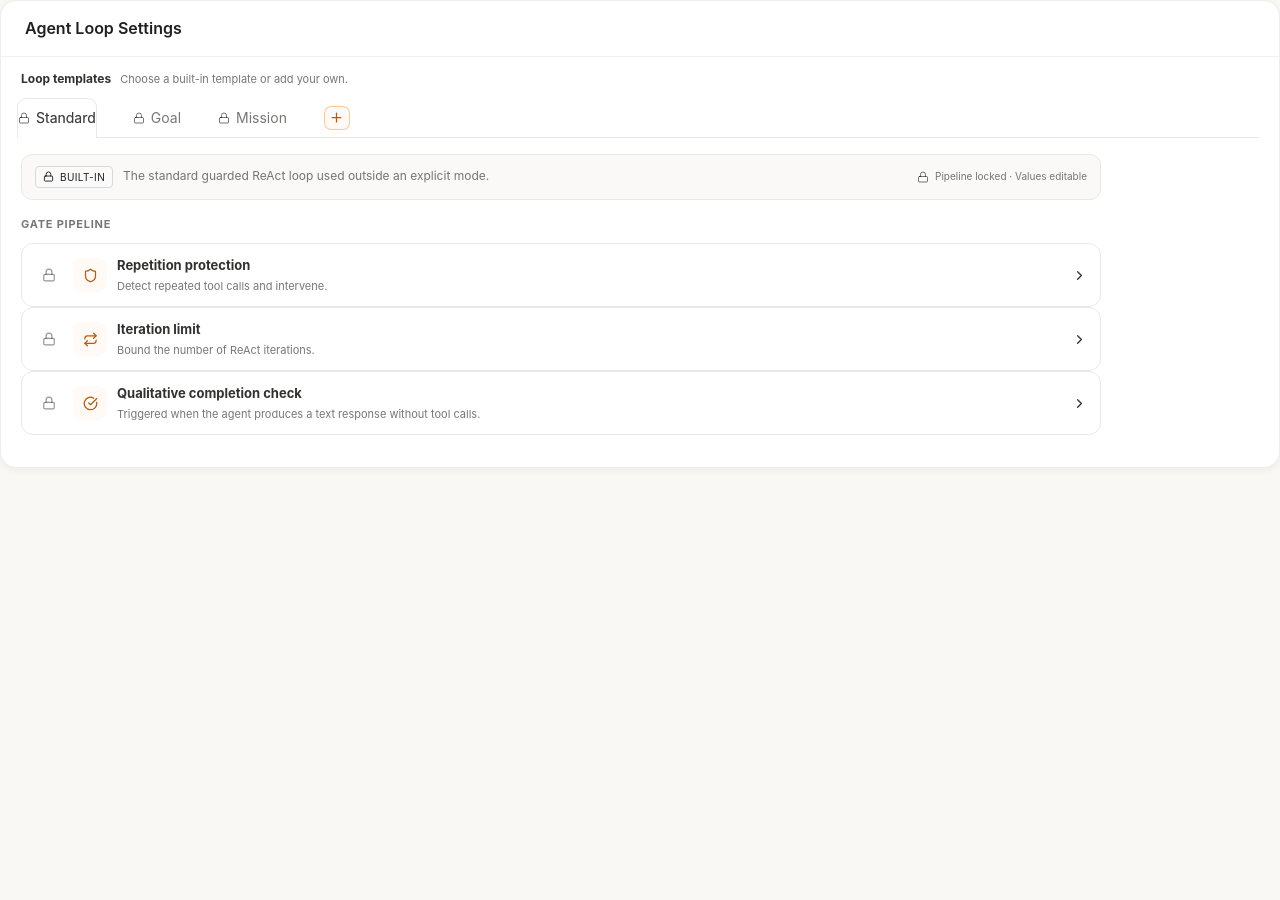
it: AgentLoopCard custom mode rendering › renders Mission defaults as three separate gates
Click the tab "Mission".
click(252, 118)  # box [218, 107, 287, 130]
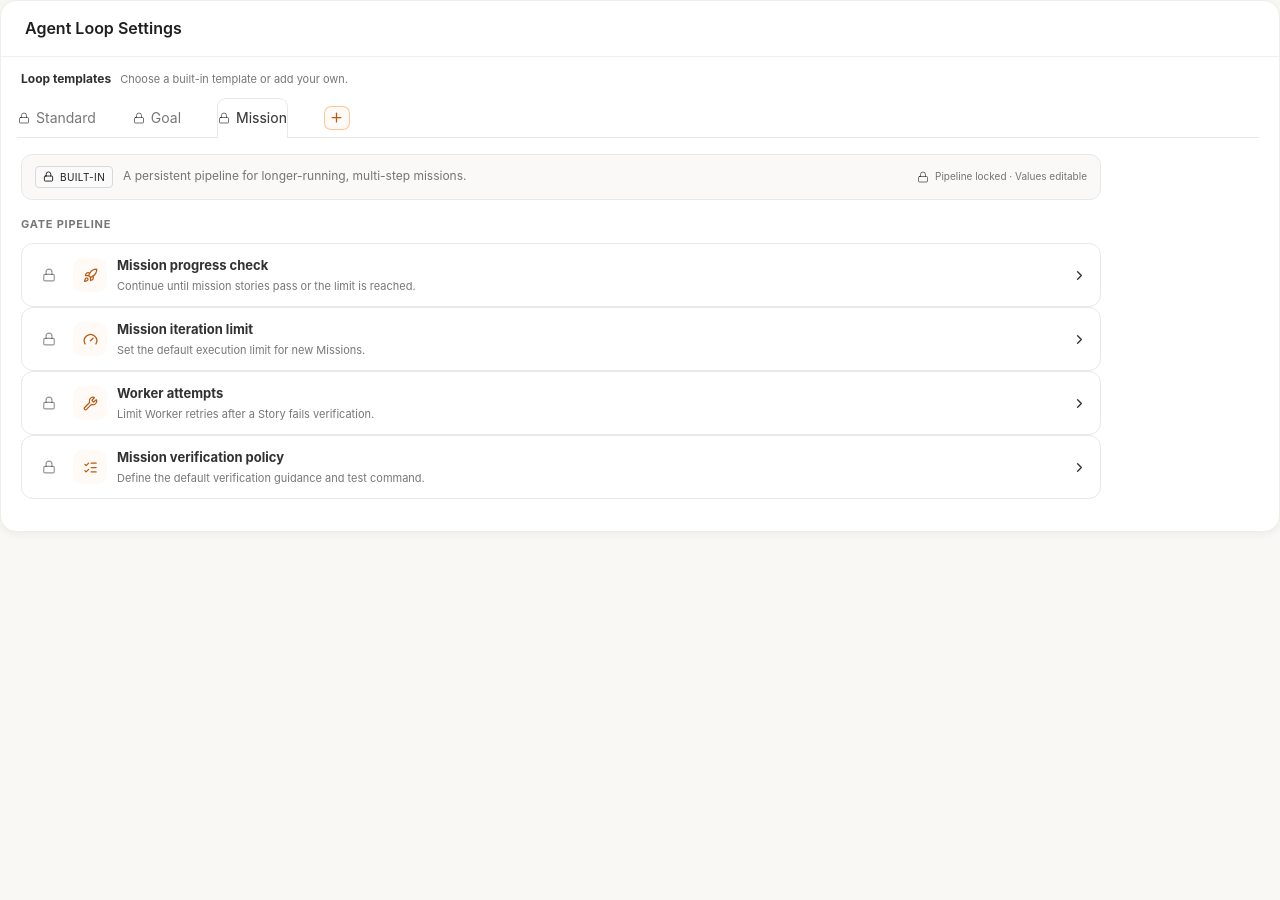
expect the button "Mission iteration limit" is shown: met, box [22, 308, 1100, 370]
expect the button "Worker attempts" is shown: met, box [22, 372, 1100, 434]
expect the button "Mission verification policy" is shown: met
Click the button "Mission verification policy".
click(90, 467)  # box [22, 436, 1100, 498]
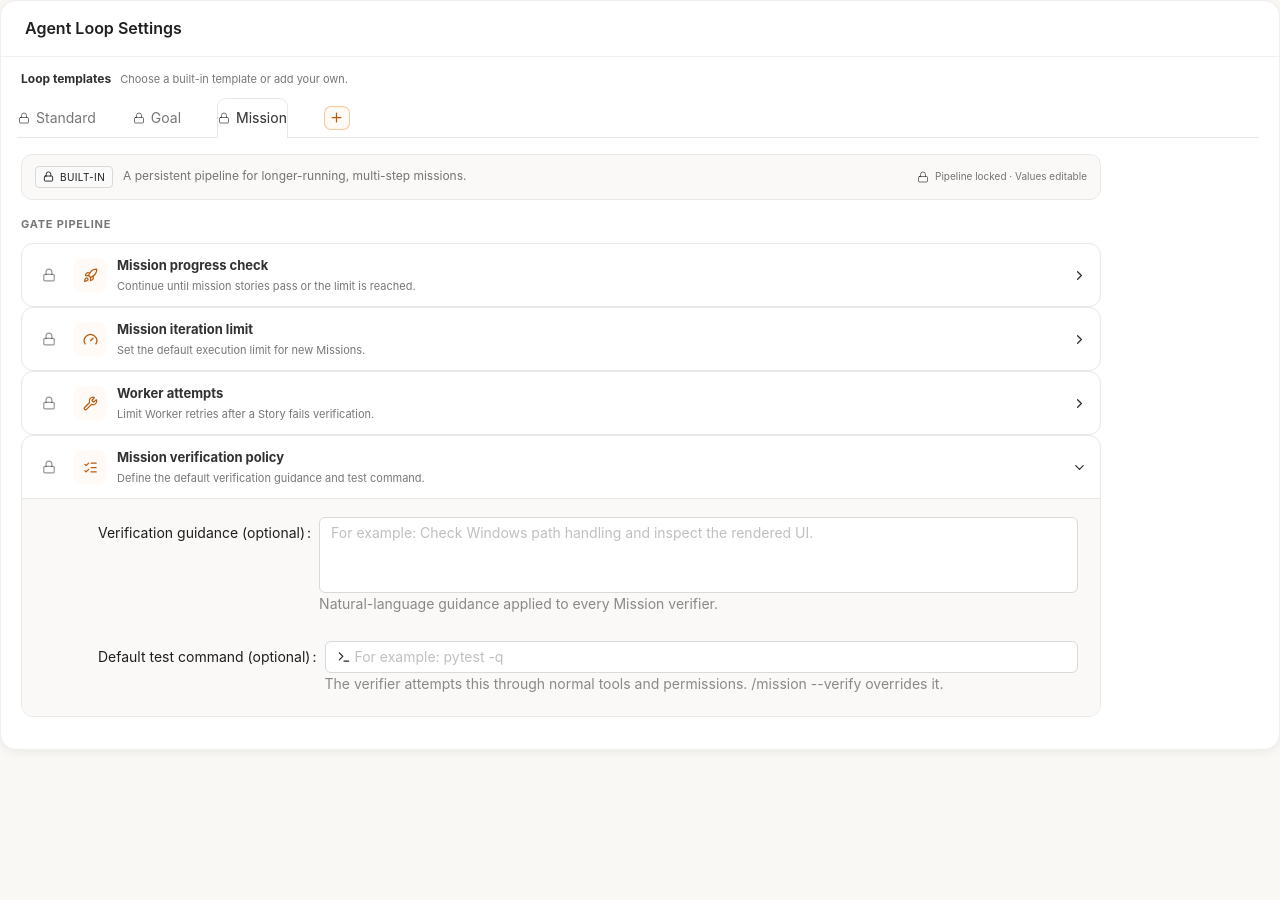
expect the text "Verification guidance (optional)" is shown: met, box [98, 524, 305, 541]
expect the text "Default test command (optional)" is shown: met, box [98, 648, 310, 665]
